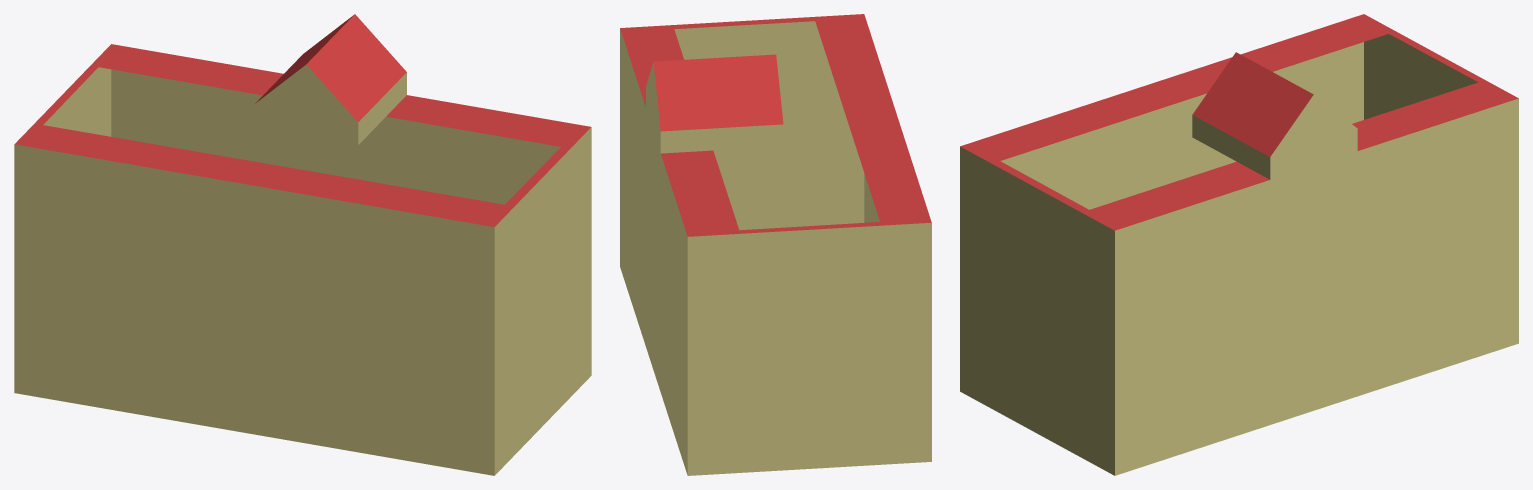
3 renders of one model, left to right at view 1: azimuth 30°, elevation 25°; view 2: azimuth 150°, elevation 25°; view 3: azimuth 270°, elevation 25°, orthographic. The views are drawn at different scales.
Bounding box in the file's own units: 25.88 × 28.2 × 17.61.
